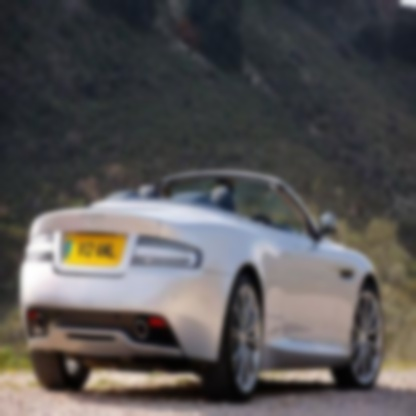Vehicle: (21, 172, 385, 403)
